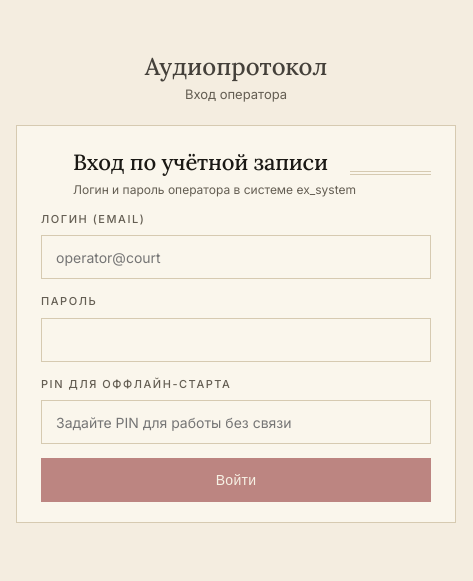
Test: LoginScreen › показывает понятную ошибку при неверных данных
Type "op@court" into the field labelled "Логин (email)" at (236,257), box [42,236,430,278]
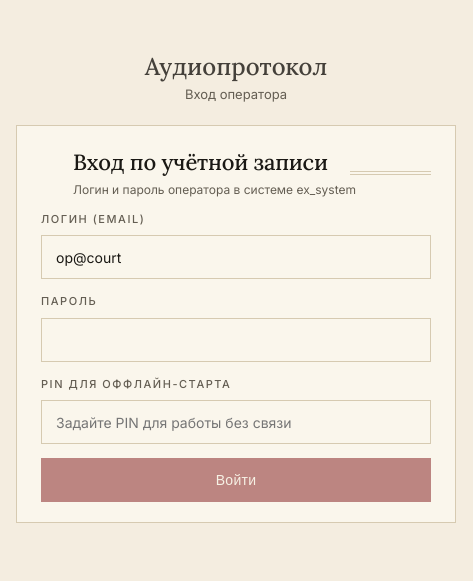
Type "bad" into the password field labelled "Пароль" at (236,340), box [42,318,430,360]
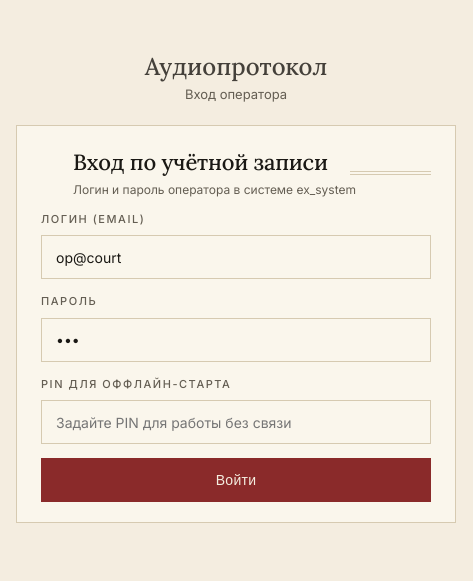
Type "2468" into the password field labelled "PIN для оффлайн-старта" at (236,422), box [42,401,430,443]
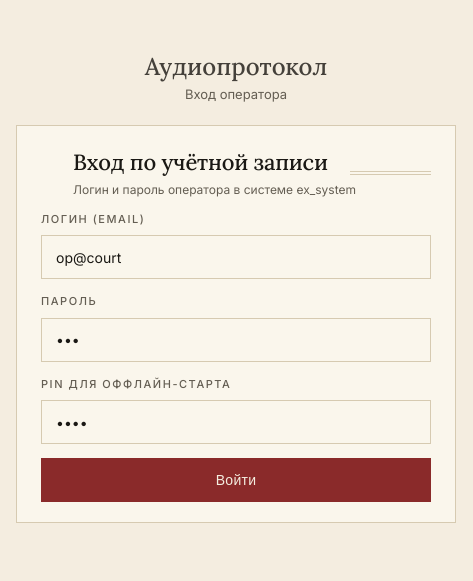
Click the button "Войти" at (236,480), box [41,458,431,502]
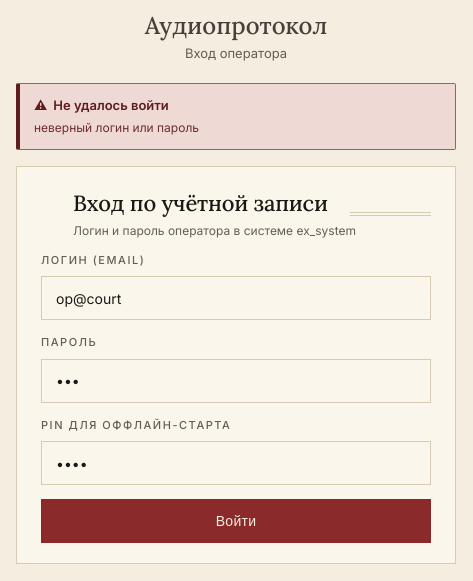
Expected: the text "неверный логин или пароль" is shown, [34,120,199,135]
